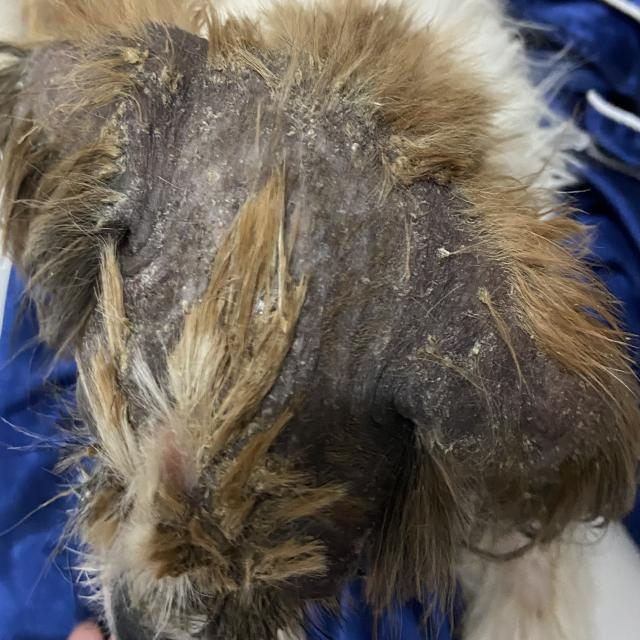demodicosis: (294, 117, 488, 442), (136, 59, 263, 309), (502, 314, 599, 493)
